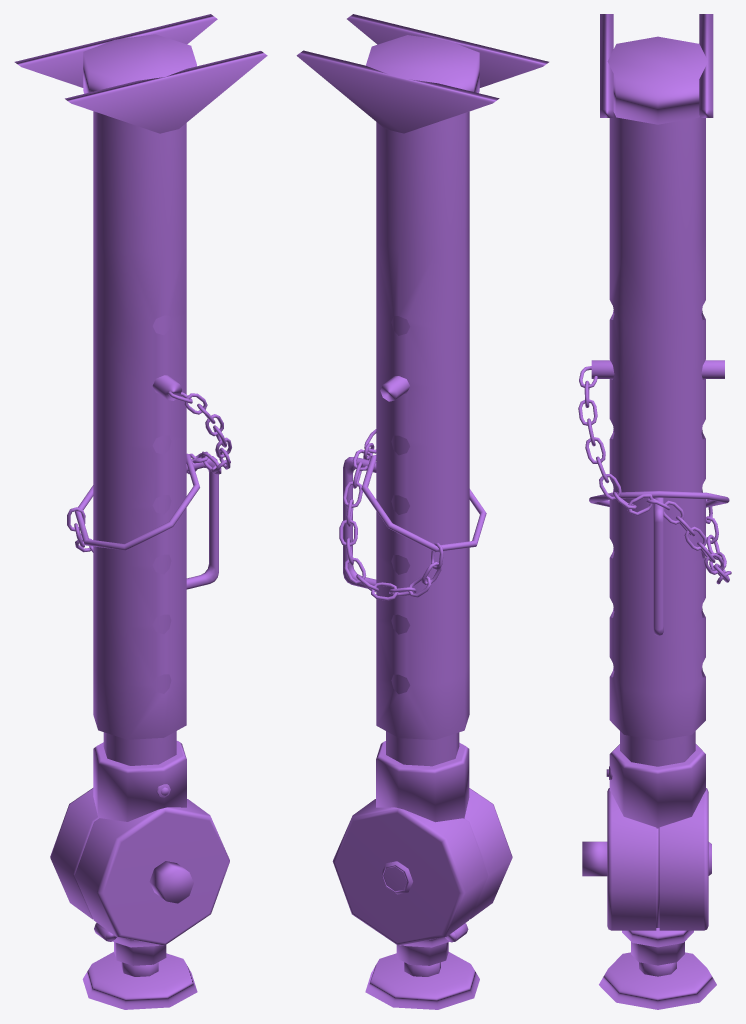
The model's file is Temp Support.fbx.
3 renders of one model, left to right at view 1: azimuth 30°, elevation 25°; view 2: azimuth 150°, elevation 25°; view 3: azimuth 270°, elevation 25°, orthographic.
Visible parts, largest first — view 1: Cylinder.069; view 2: Cylinder.069; view 3: Cylinder.069.
Boxes of the visible parts, x1=… form: Cylinder.069: x1=14, y1=14, x2=267, y2=1009; Cylinder.069: x1=296, y1=14, x2=548, y2=1009; Cylinder.069: x1=578, y1=14, x2=731, y2=1009.
Size of the model in its own units: 20.04 by 90.33 by 13.6.
